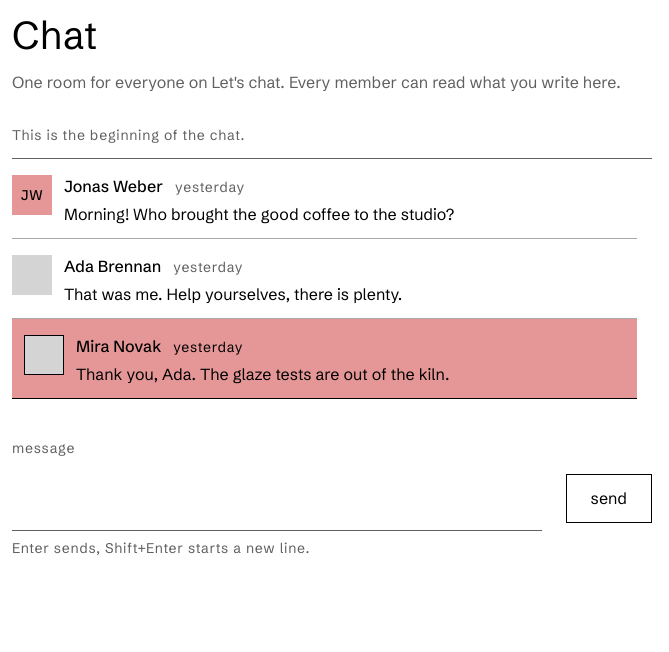
Test case: ChatPage › F-79: a sent message shows as "sending…", then once with its server id, also when the broadcast arrives
This screenshot has width=669, height=652.
Later steps or results of the test are not shown.
In the text box labelled "message": [277, 499] box x1=12 y1=467 x2=542 y2=531, type "Glaze results tomorrow."
Then press Enter
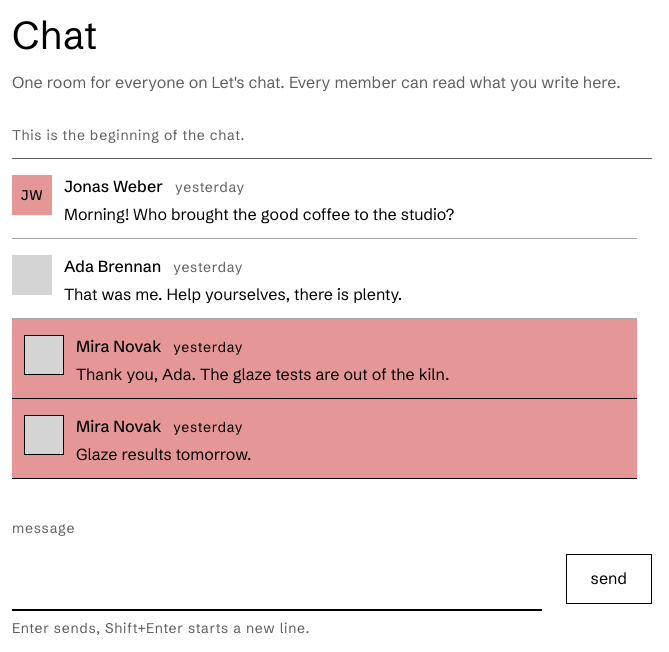
Check: the text box labelled "message" is empty, box x1=12 y1=547 x2=542 y2=611
Check: the text "Glaze results tomorrow." is shown once, box x1=76 y1=444 x2=252 y2=464
Check: the text "Glaze results tomorrow." is shown, box x1=76 y1=444 x2=252 y2=464
